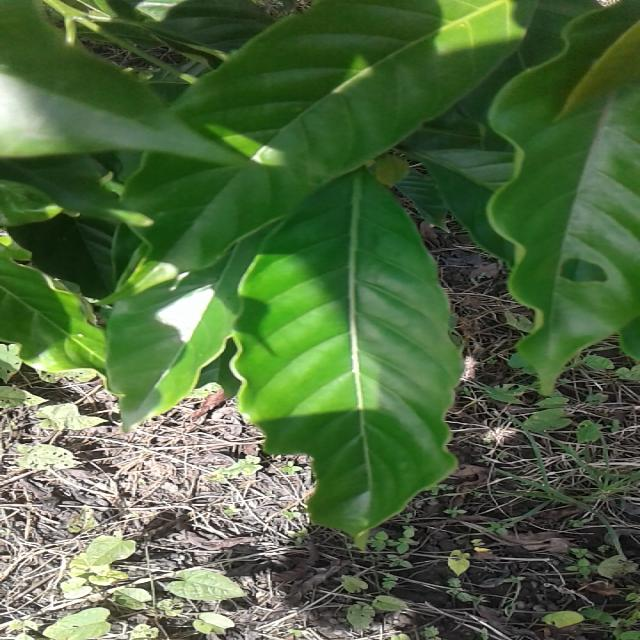Sanas: (228, 172, 464, 537)
